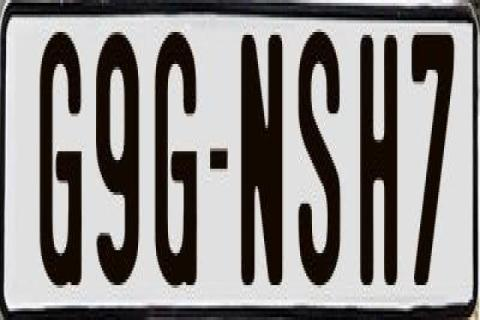0: (92, 23, 140, 285), (410, 32, 456, 288)
G: (38, 32, 84, 300), (154, 29, 198, 297)
H: (357, 32, 395, 296)
N: (238, 32, 286, 291)
S: (298, 26, 346, 288)
